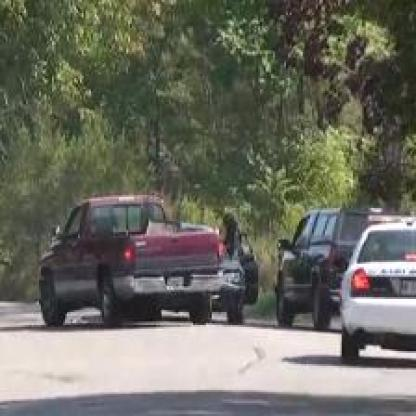other: (109, 210, 222, 272)
